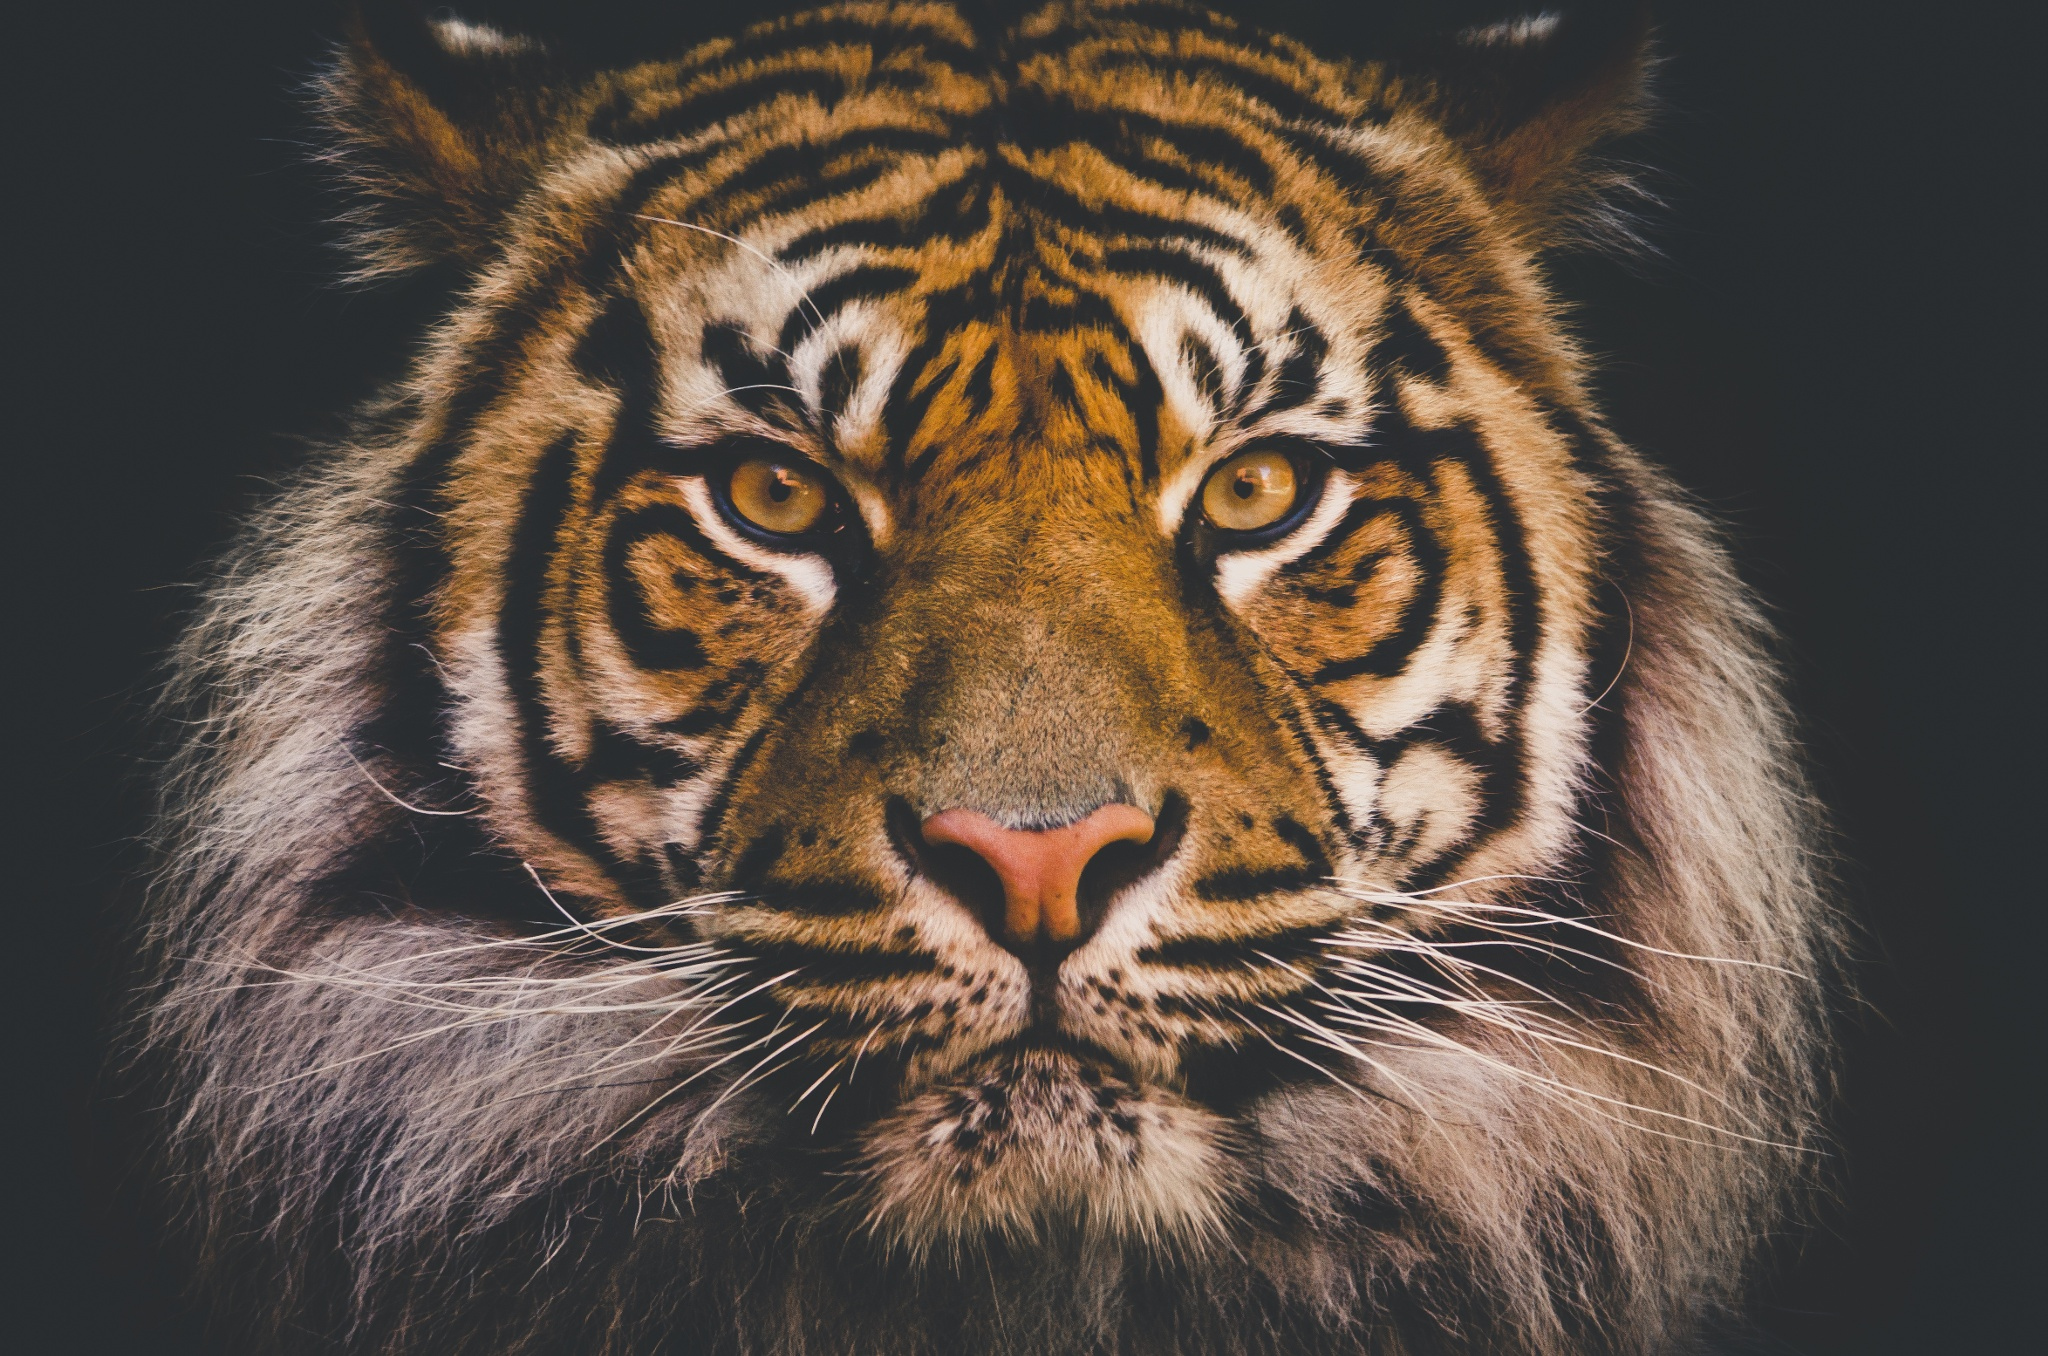tiger: (247, 56, 1885, 1233)
